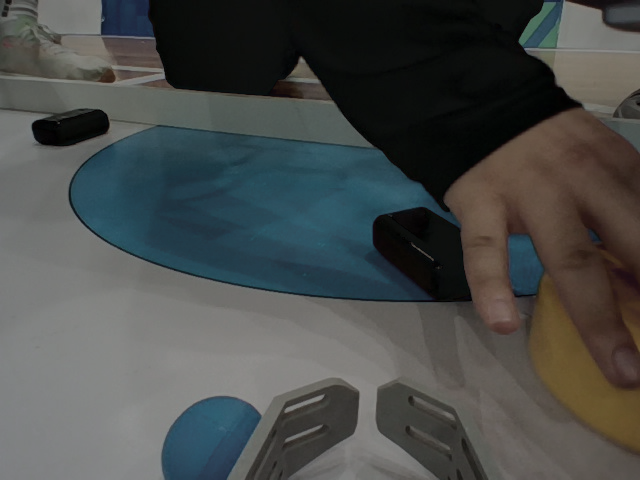black: (359, 197, 496, 315), (28, 105, 115, 161)
blue: (146, 386, 301, 480)
yellow: (519, 192, 640, 480)
